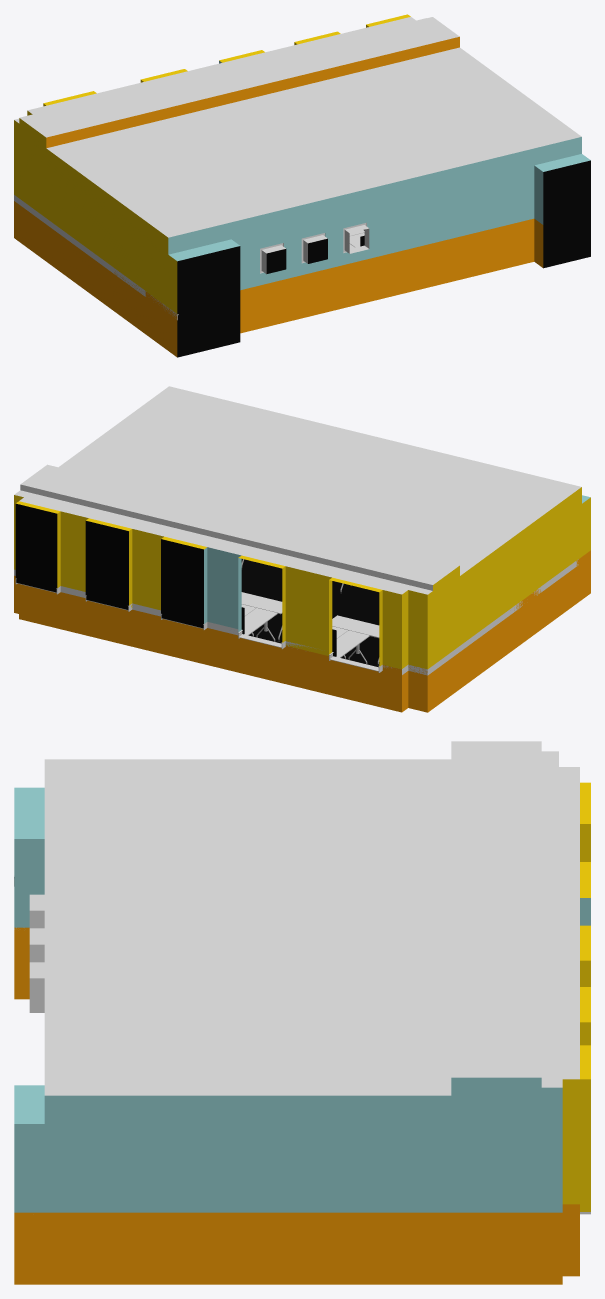
File: library-room.fbx
The picture shows the model from 3 angles, top to bottom: view 1: azimuth 30°, elevation 25°; view 2: azimuth 150°, elevation 25°; view 3: azimuth 270°, elevation 25°; orthographic projection. The views are drawn at different scales.
Visible parts, largest first — view 1: Plane; view 2: Plane, Table set 1-end.001, Table set 3.001, Table set 2.001; view 3: Plane.
Part boxes in pixels (x1,y1,x2,y2): Plane: (14, 14, 590, 357); Plane: (14, 386, 590, 712); Table set 1-end.001: (241, 592, 379, 666); Table set 3.001: (332, 626, 369, 664); Table set 2.001: (241, 604, 277, 641); Plane: (14, 741, 590, 1284).
Bounding box in the file's own units: 1087 × 1500 × 431.
